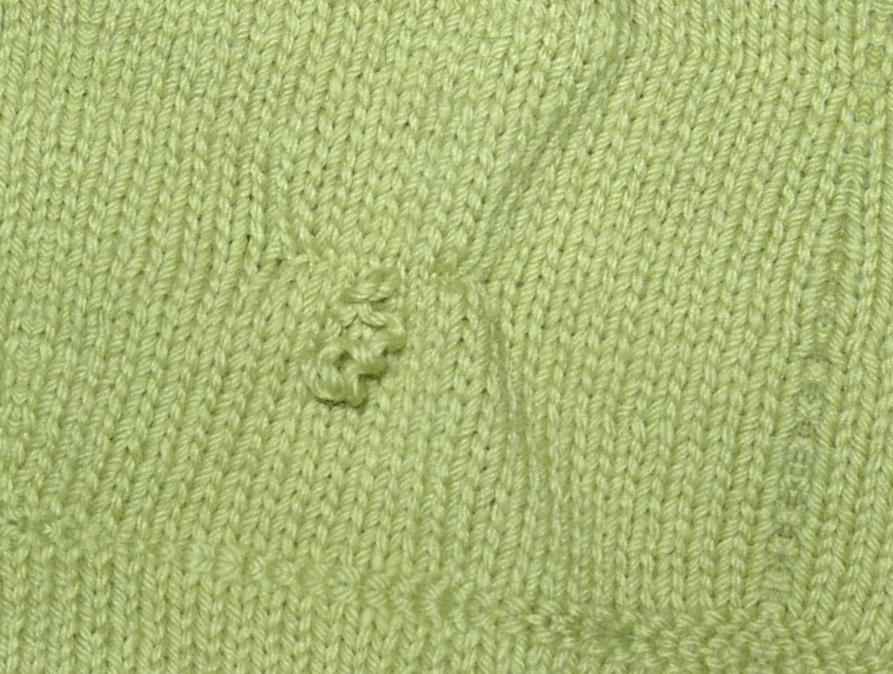knot: (301, 267, 416, 420)
